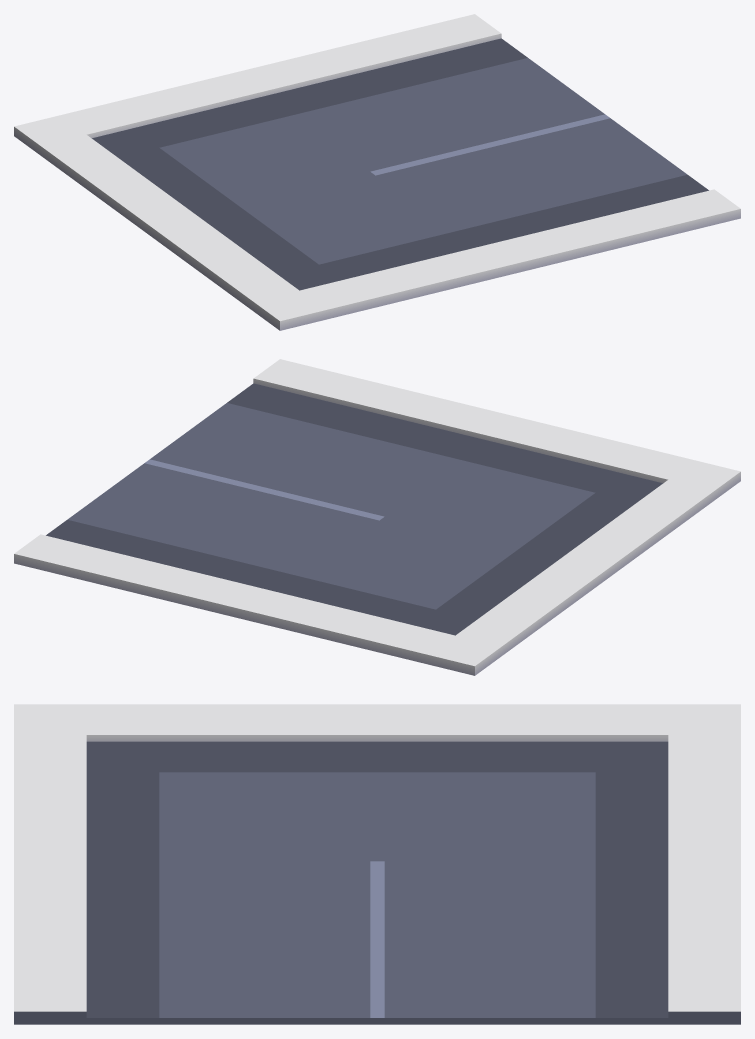
The model's file is road-end.gltf.
3 views of the same model, one above another, from view 1: azimuth 30°, elevation 25°; view 2: azimuth 150°, elevation 25°; view 3: azimuth 270°, elevation 25° (orthographic). The views are drawn at different scales.
Visible parts, largest first — view 1: road-end; view 2: road-end; view 3: road-end.
Part boxes in pixels (x1,y1,x2,y2): road-end: (14,14,740,330); road-end: (14,359,740,675); road-end: (14,704,740,1024).
Size of the model in its own units: 1 by 0.02 by 1.
Materials: 1 (1 with a texture image).
